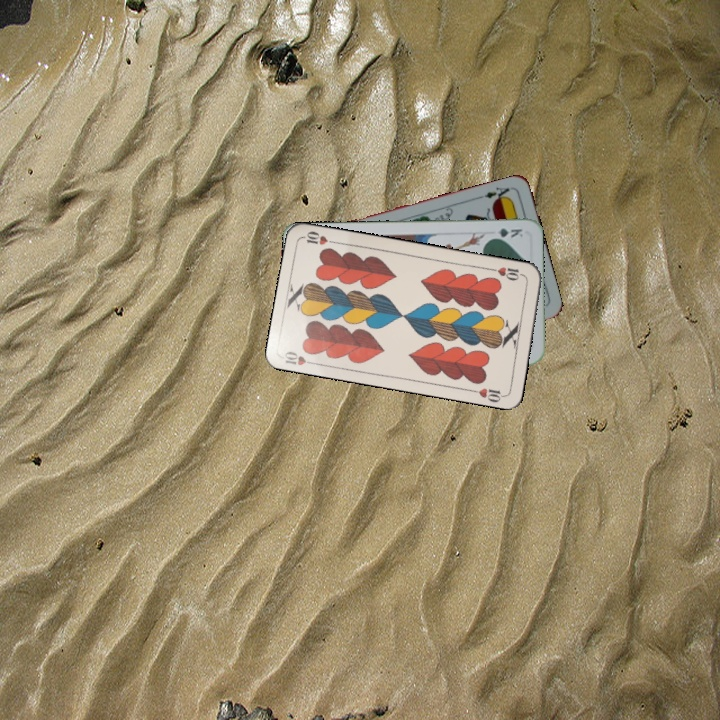EA: (480, 183, 515, 205)
GK: (486, 224, 525, 241)
H10: (281, 347, 320, 368), (487, 263, 527, 283)
